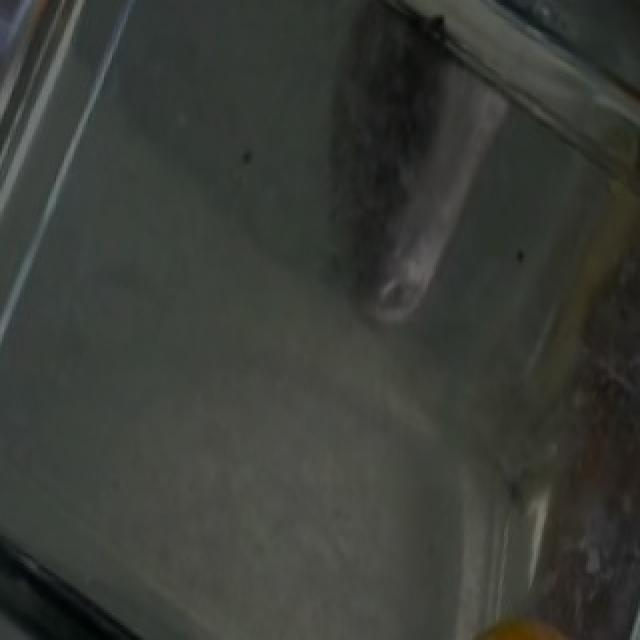Fruit: (434, 595, 626, 640)
